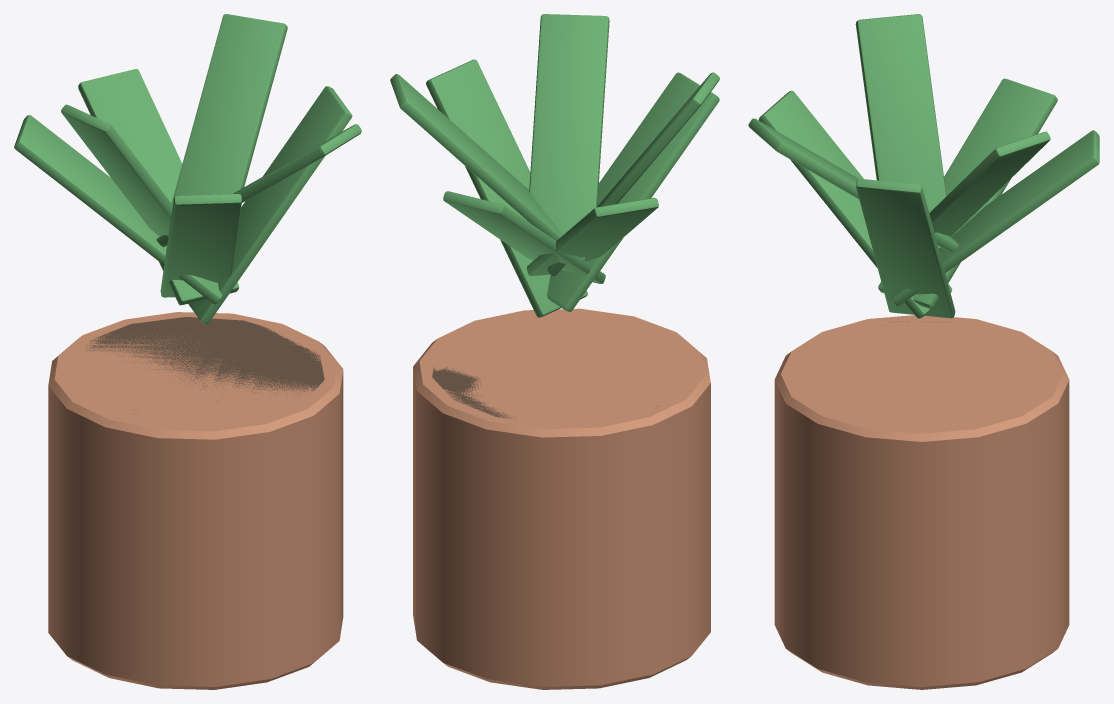
File: hotel_plant.glb
3 renders of one model, left to right at view 1: azimuth 30°, elevation 25°; view 2: azimuth 150°, elevation 25°; view 3: azimuth 270°, elevation 25°, orthographic.
Visible parts, largest first — view 1: HotelPlant_Mesh; view 2: HotelPlant_Mesh; view 3: HotelPlant_Mesh.
Part boxes in pixels (x1,y1,x2,y2): HotelPlant_Mesh: (14, 14, 361, 689); HotelPlant_Mesh: (390, 14, 719, 689); HotelPlant_Mesh: (748, 14, 1099, 689).
Bounding box in the file's own units: 0.5117 × 0.9931 × 0.5714.
